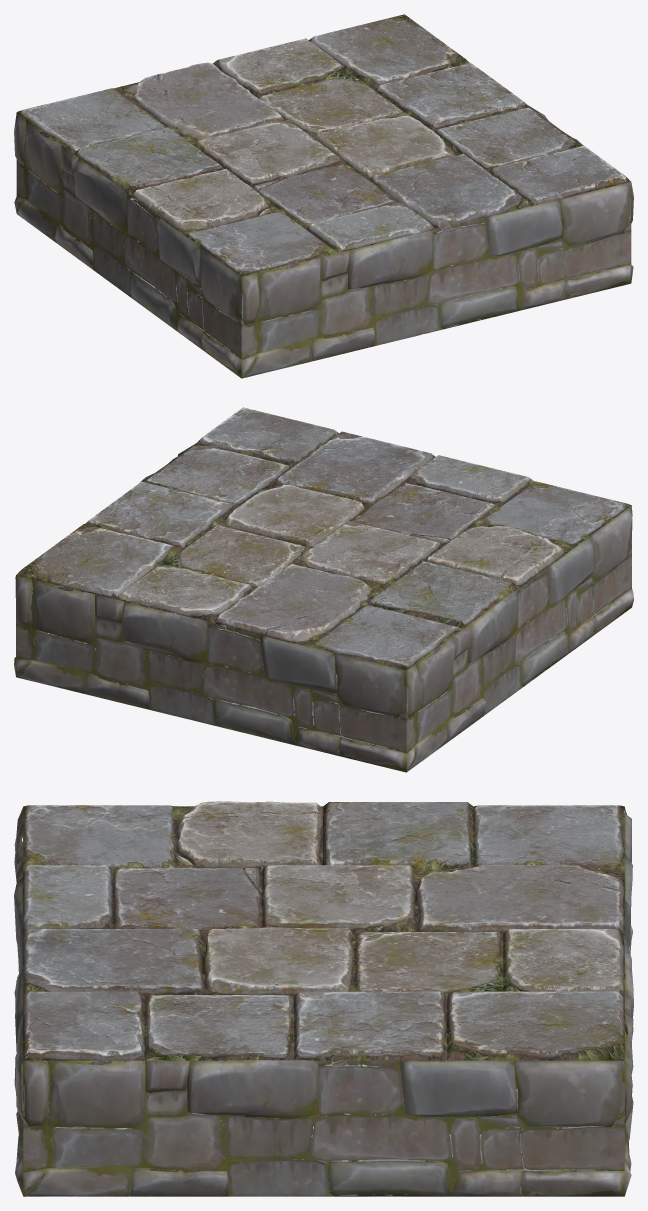
3 views of the same model, one above another, from view 1: azimuth 30°, elevation 25°; view 2: azimuth 150°, elevation 25°; view 3: azimuth 270°, elevation 25° (orthographic). The views are drawn at different scales.
Visible parts, largest first — view 1: SM_Castle_Floor_4x4_01_v1_LOD0; view 2: SM_Castle_Floor_4x4_01_v1_LOD0; view 3: SM_Castle_Floor_4x4_01_v1_LOD0.
Boxes of the visible parts, x1,y1,x2,y2 form: SM_Castle_Floor_4x4_01_v1_LOD0: (14,14,633,378); SM_Castle_Floor_4x4_01_v1_LOD0: (14,407,633,772); SM_Castle_Floor_4x4_01_v1_LOD0: (14,801,633,1196).
Bounding box in the file's own units: 4.12 × 1.05 × 4.12.
Materials: 2 (2 with a texture image).
